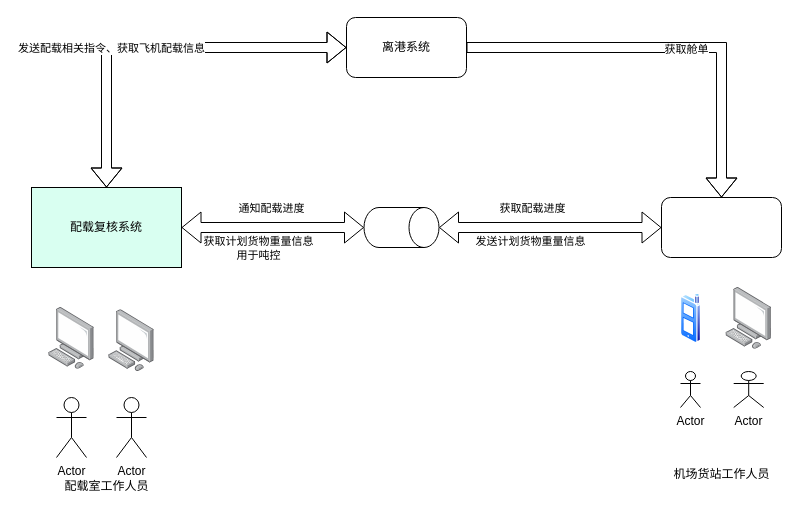
The diagram is 799 pixels wide and 519 high, and some of its shapes have lost their labels. Each missing label, with the centre of its shape:
智慧物流系统: pixel 721 227
贵阳机场信息公司mq: pixel 401 227
